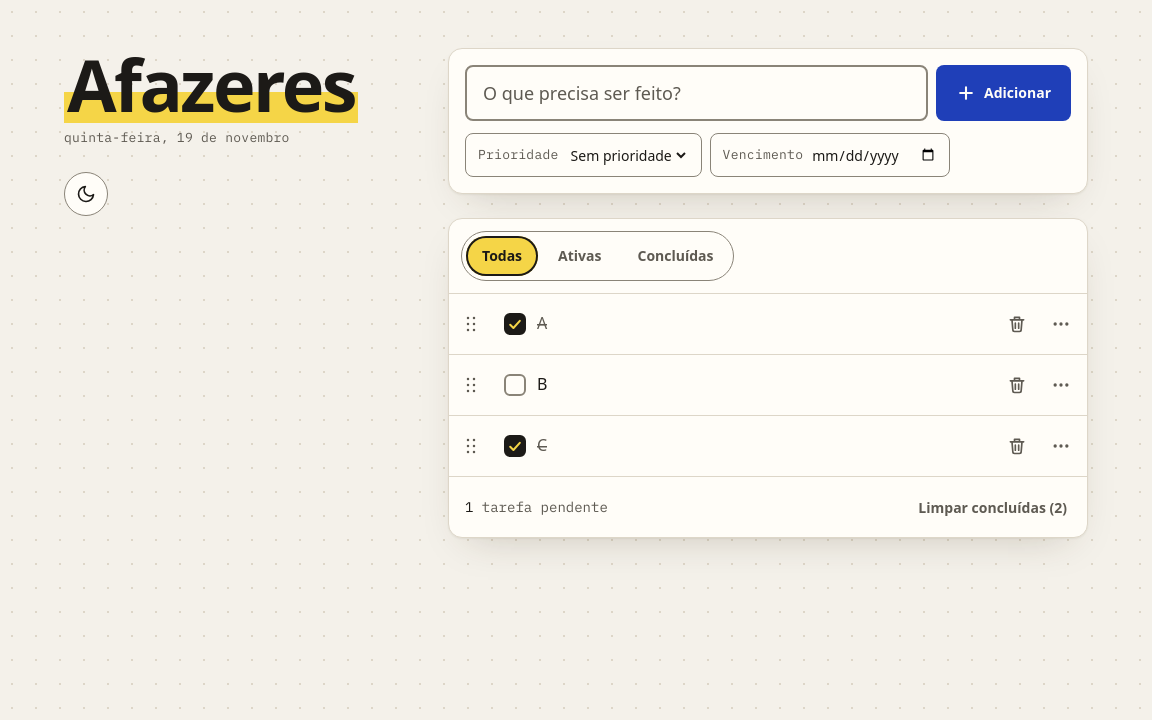
it: filtros e limpar concluídas › limpa concluídas, anuncia e foca o campo
The width and height of the screenshot is (1152, 720).
What coordinates should you click on to do the following:
click the button "Limpar concluídas (2)"
I would click on:
 (993, 507)
Its box is [906,485,1079,529].
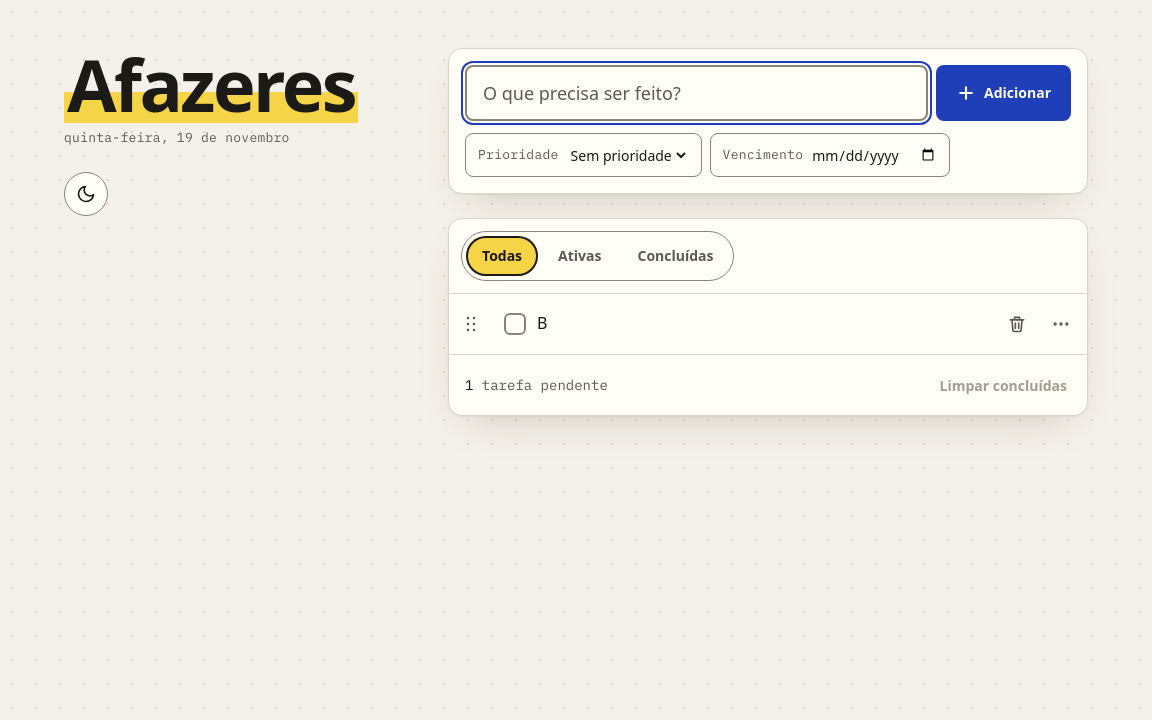
Expected: the button "Limpar concluídas" is disabled, [928,363,1079,407]
